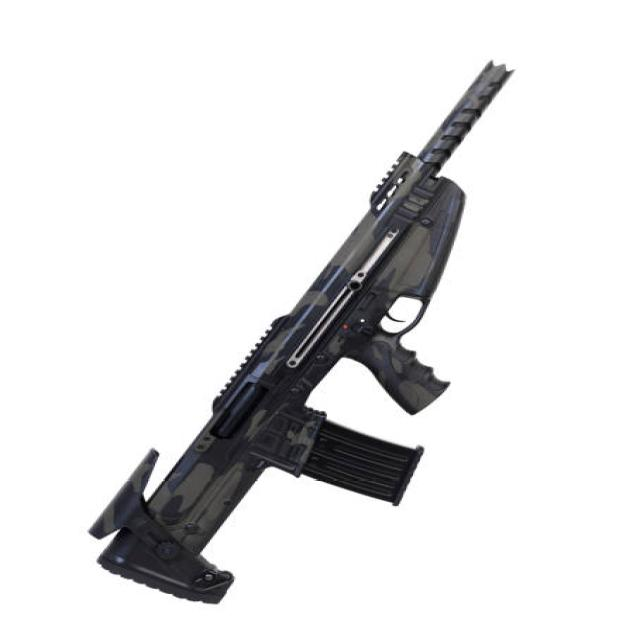rifle: (78, 58, 519, 612)
